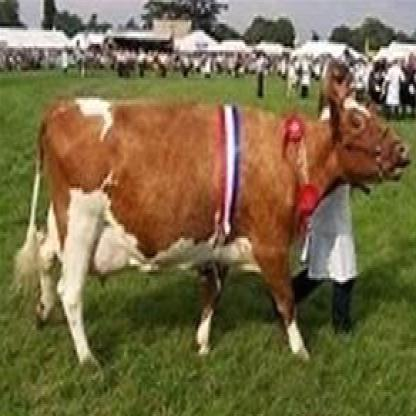cow: (19, 84, 410, 364)
